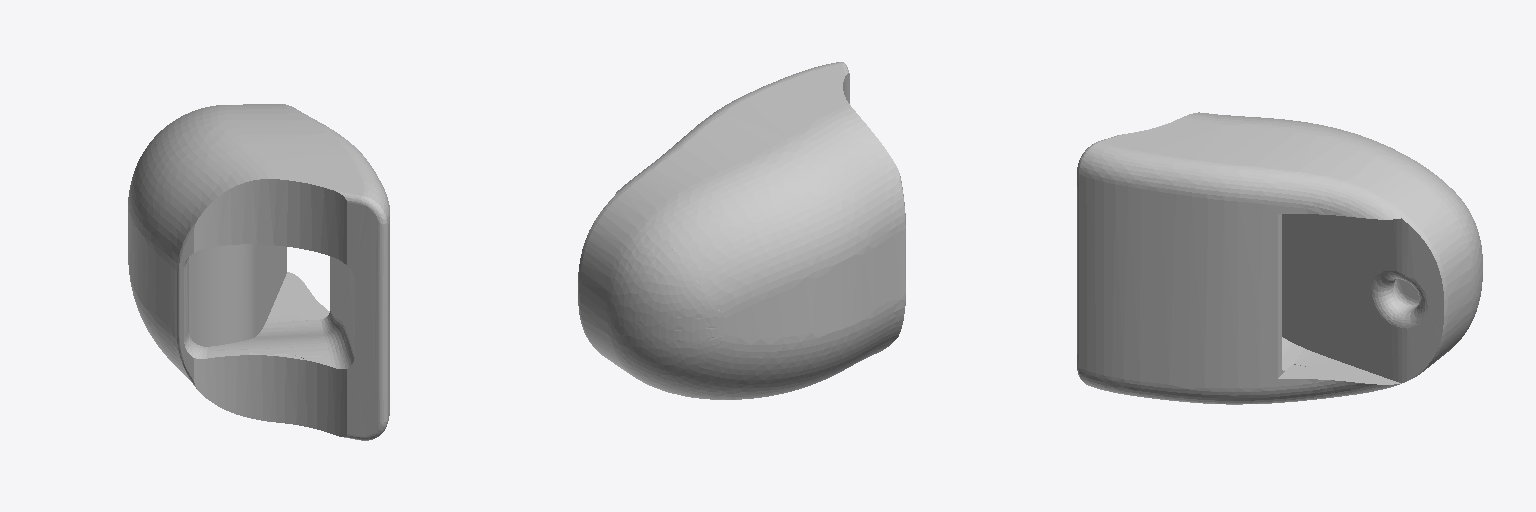
The model's file is right_visual_thumb_dp_skin_mesh_mesh.obj.
3 renders of one model, left to right at view 1: azimuth 30°, elevation 25°; view 2: azimuth 150°, elevation 25°; view 3: azimuth 270°, elevation 25°, orthographic.
Size of the model in its own units: 0.0178 by 0.0193 by 0.029.